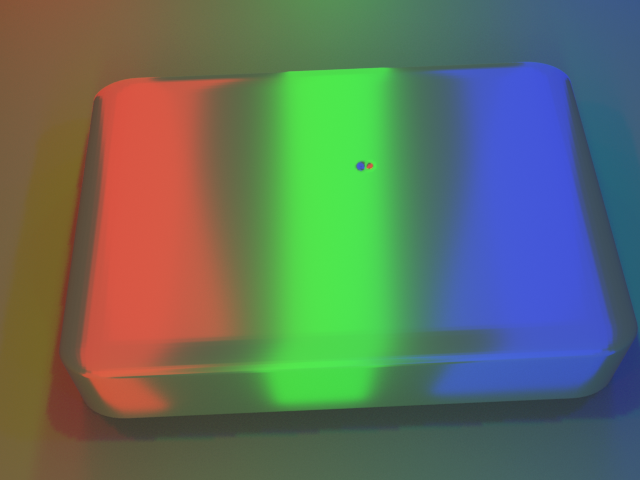dent: (345, 141, 390, 177)
